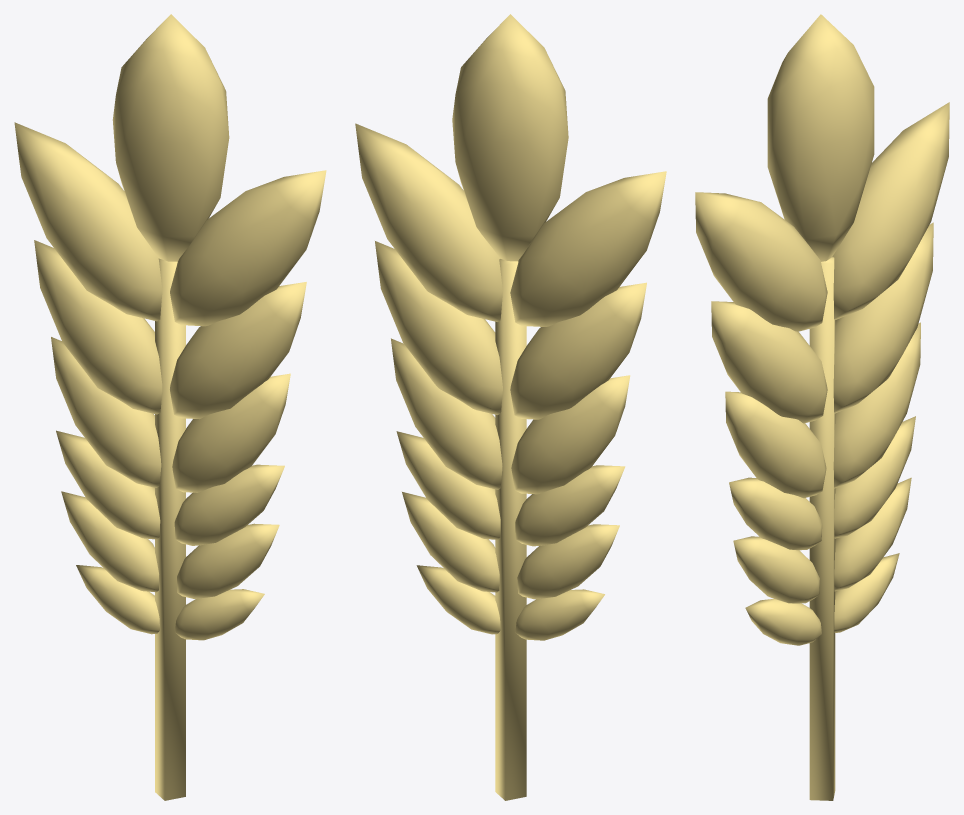
Rendered from wheat.glb.
The picture shows the model from 3 angles, left to right: view 1: azimuth 30°, elevation 25°; view 2: azimuth 210°, elevation 25°; view 3: azimuth 270°, elevation 25°; orthographic projection.
Visible parts, largest first — view 1: Object_4; view 2: Object_4; view 3: Object_4.
Part boxes in pixels (box(x1,y1,x2,y2)): Object_4: box(14, 14, 326, 800); Object_4: box(355, 14, 666, 800); Object_4: box(695, 14, 949, 800).
Size of the model in its own units: 55.61 by 220 by 65.
